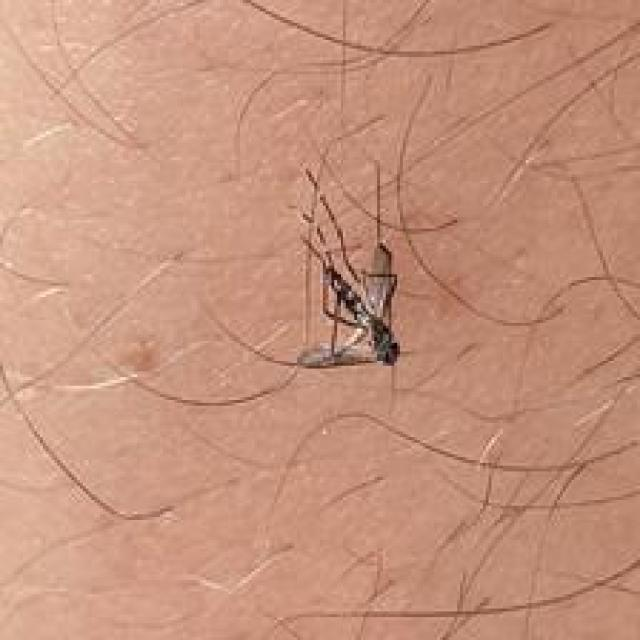Aedes albopictus: (294, 165, 403, 368)
